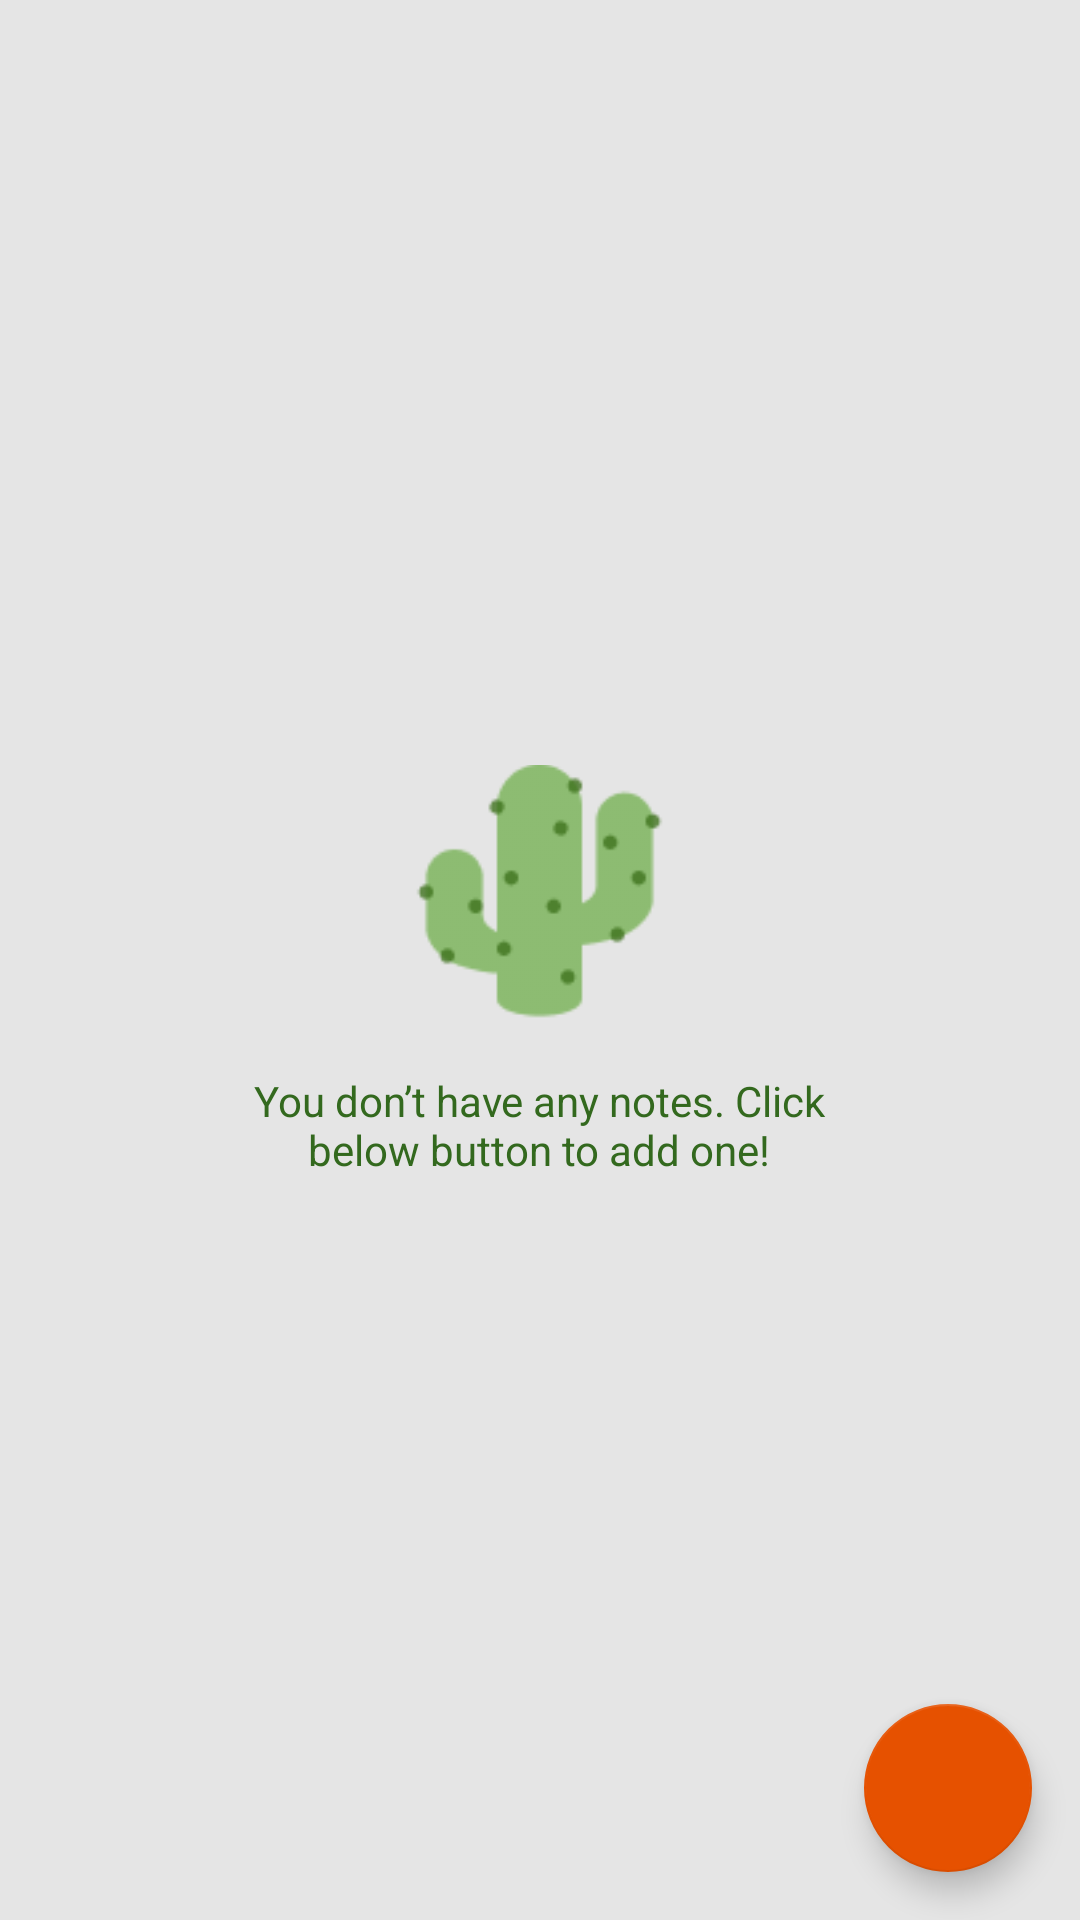

Icon click points for this 1080×1920 phone screenshot, format [x,y]:
cactus: [540,891]
